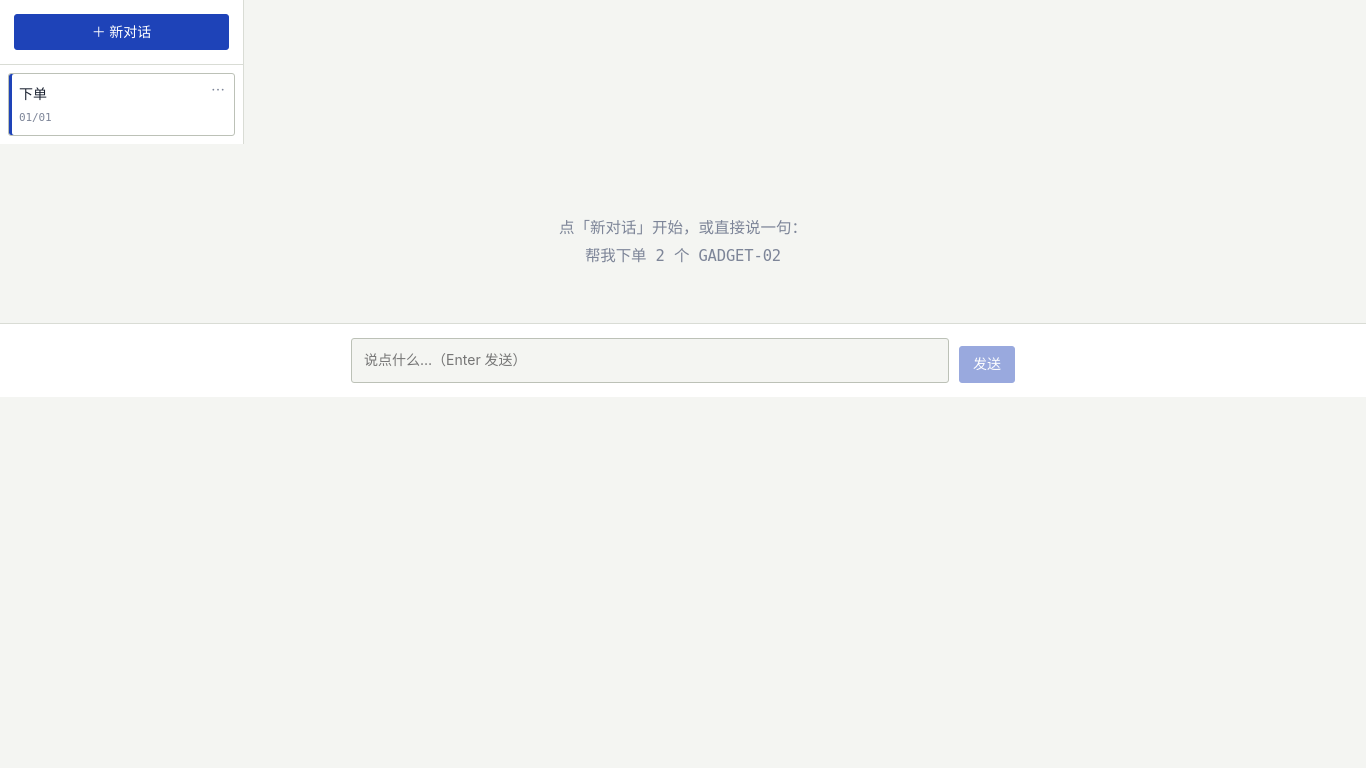
Test case: 忙时入队 › 删掉排队中的那条：DELETE 服务端那一项，本地气泡一起收回且不报错
Type "第一句" into the text box with placeholder "说点什么…（Enter 发送）" at (650,360), box [351, 338, 949, 383]
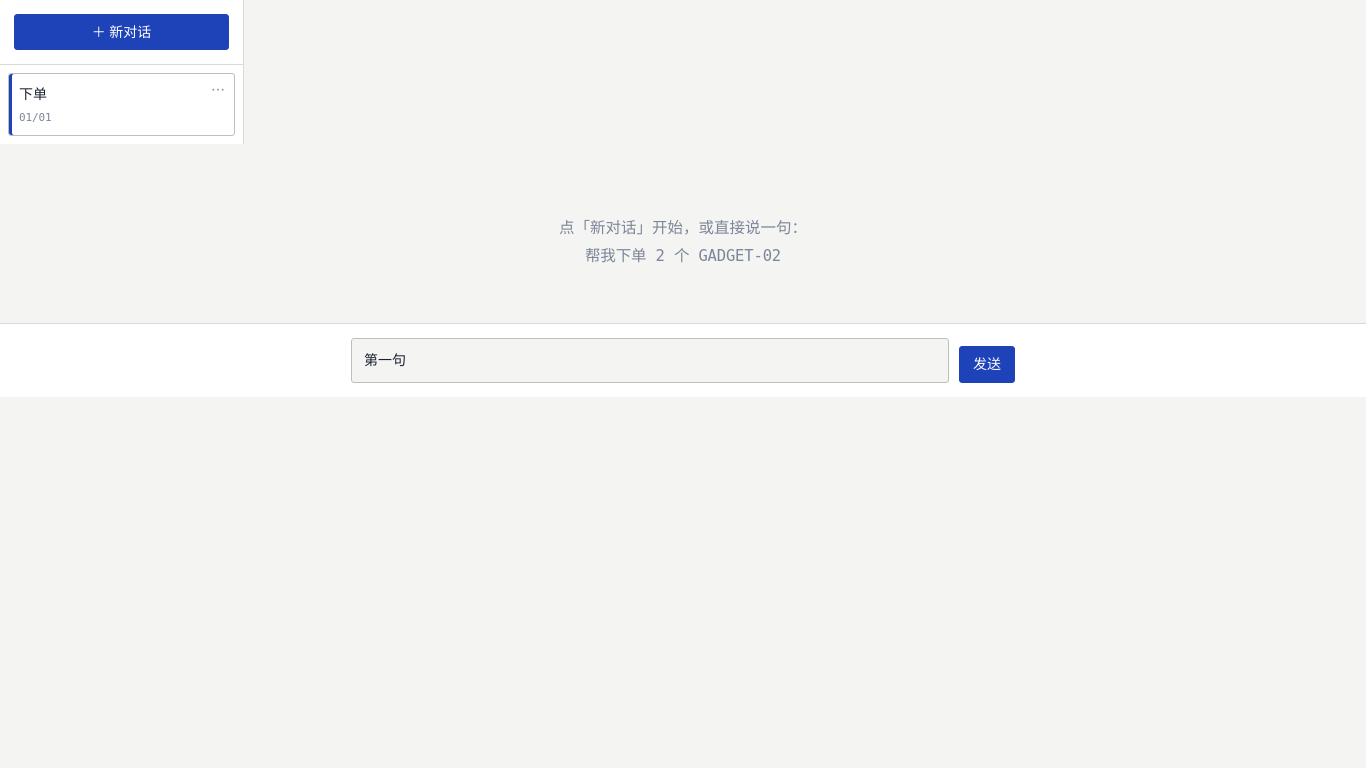
Click the button "发送" at (987,364), box [959, 346, 1015, 383]
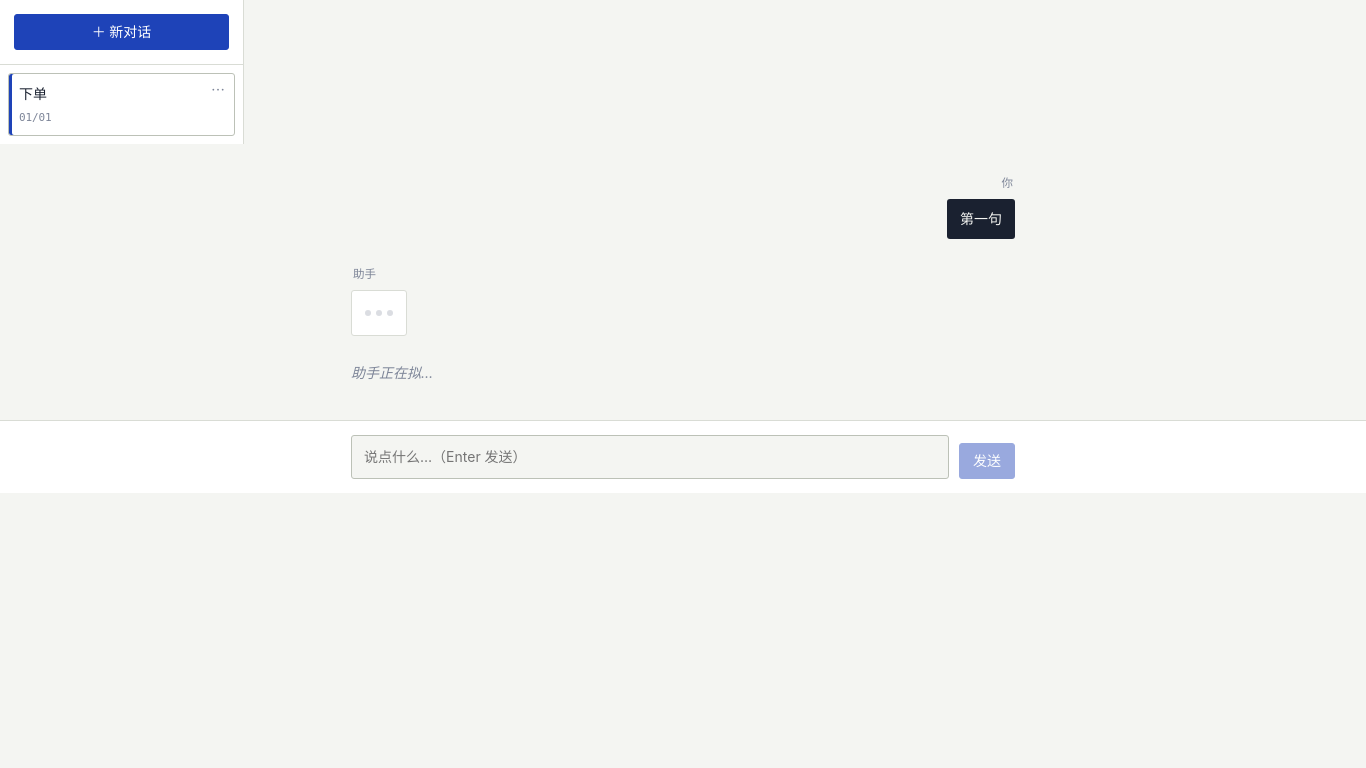
Type "第二句" into the text box with placeholder "说点什么…（Enter 发送）" at (650,457), box [351, 435, 949, 479]
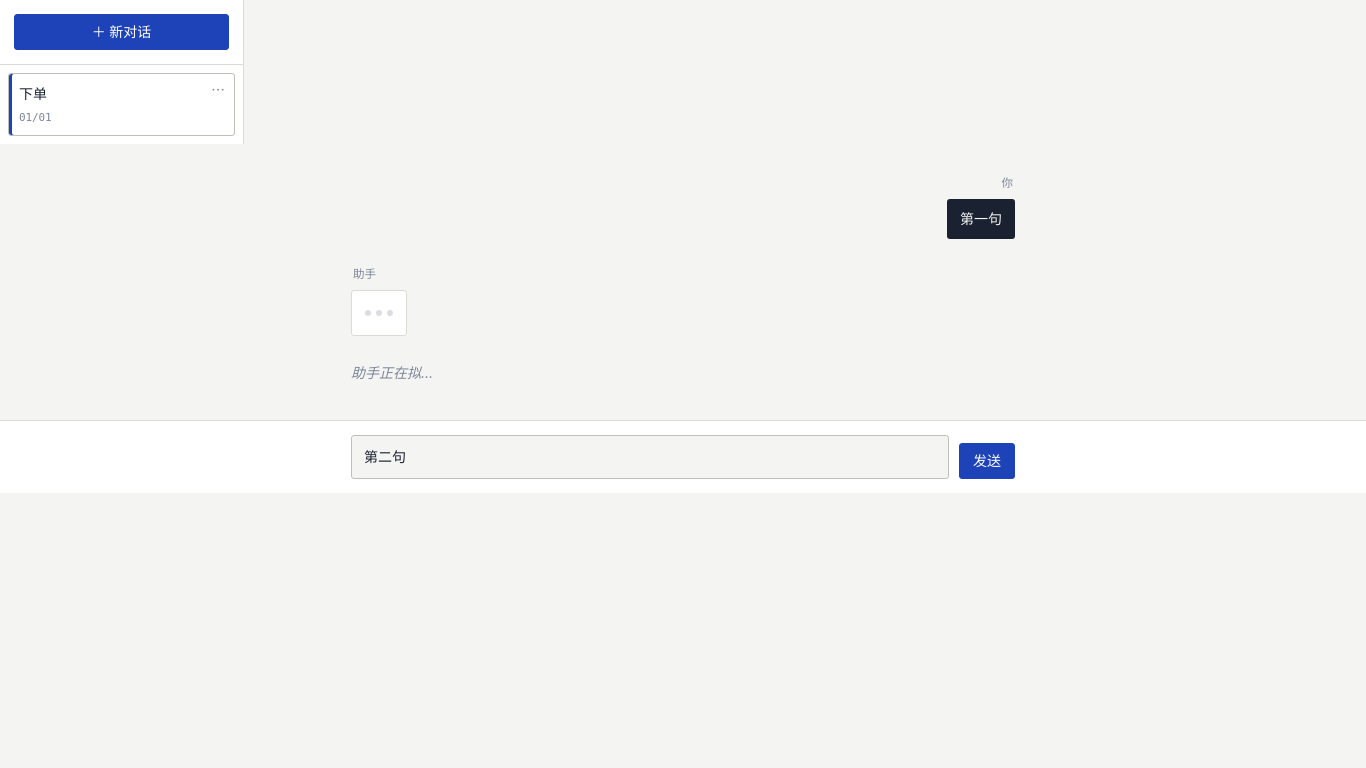
Click the button "发送" at (987,461), box [959, 443, 1015, 479]
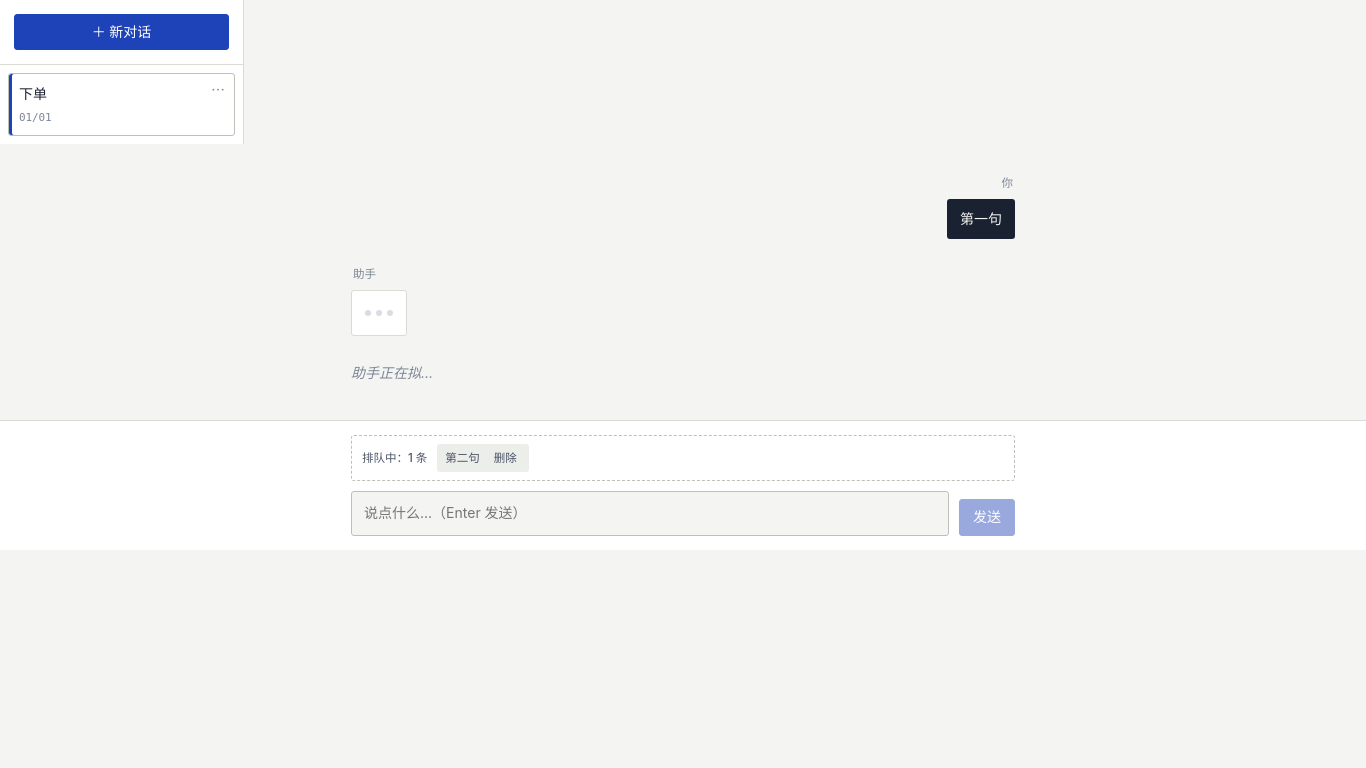
Click the button "删除" at (505,458), box [486, 446, 525, 470]
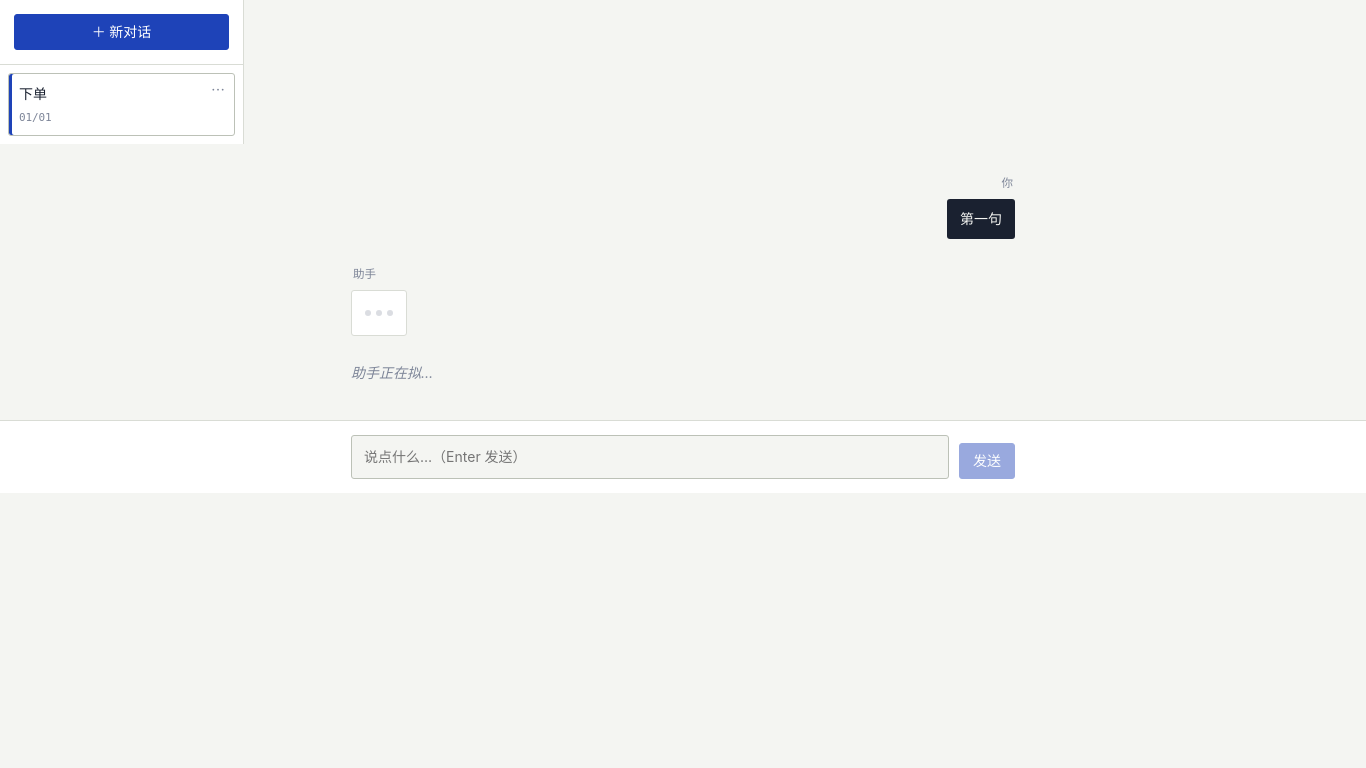
Result: the text "第二句" is gone
